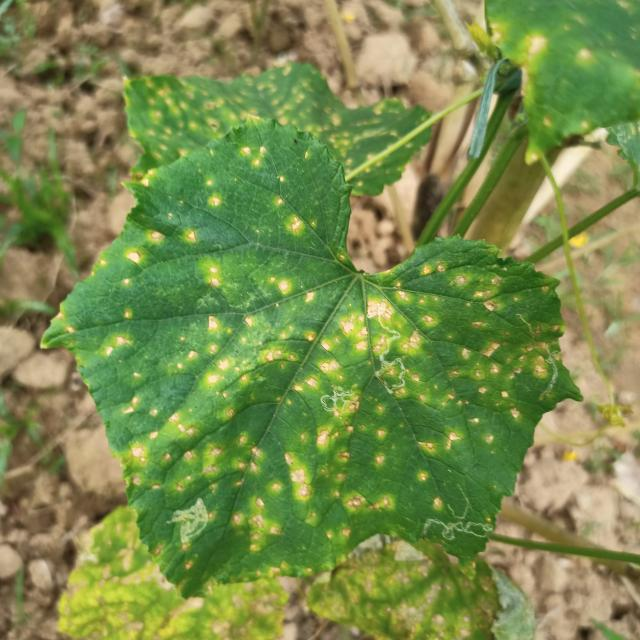disease_cucumber: (83, 263, 572, 572), (122, 230, 162, 266), (275, 194, 305, 242), (232, 141, 269, 173), (198, 180, 224, 212), (182, 226, 200, 250)
